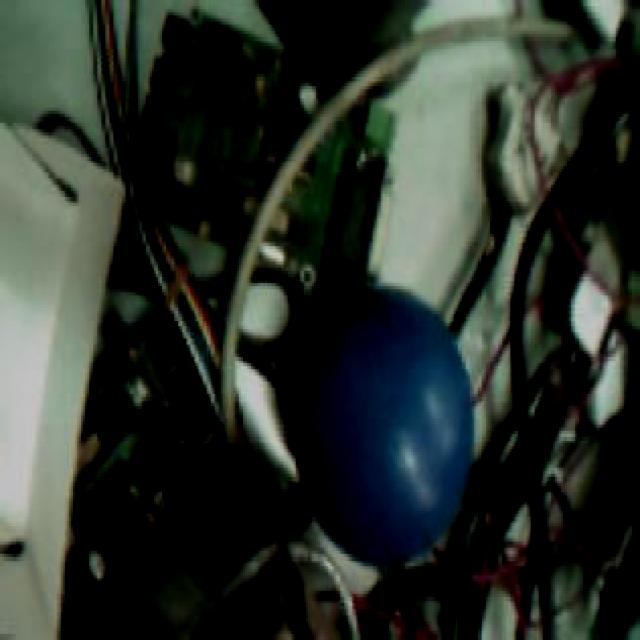BallPurple: (293, 284, 473, 565)
